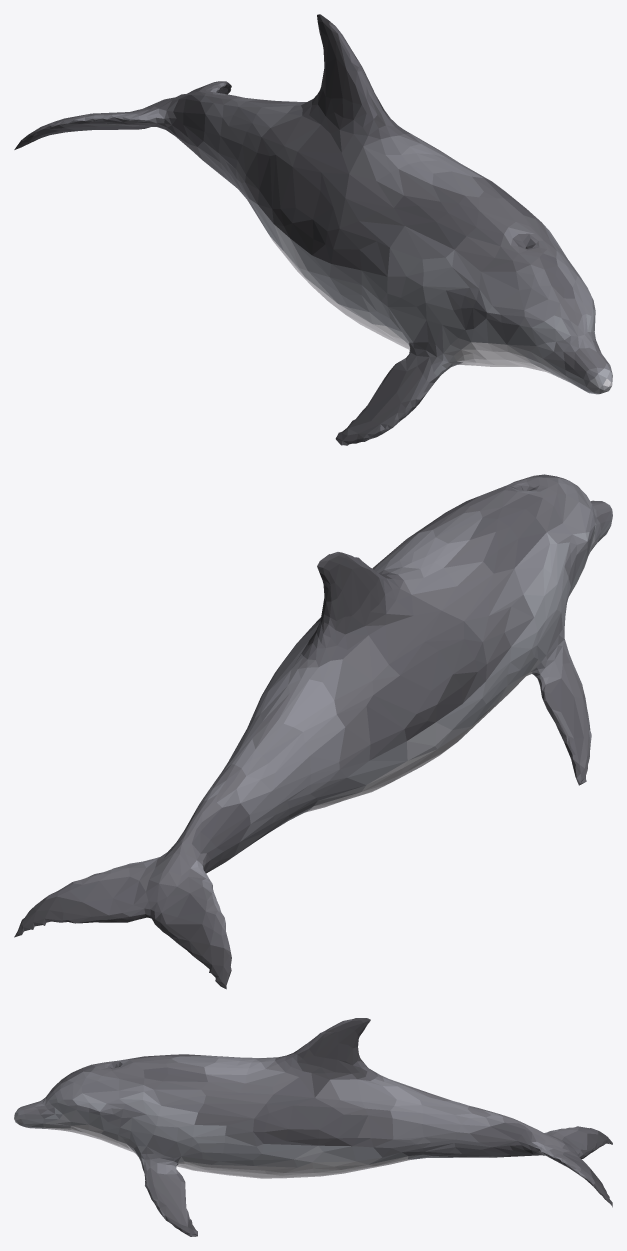
The model's file is dolphin2.glb.
3 renders of one model, top to bottom at view 1: azimuth 30°, elevation 25°; view 2: azimuth 150°, elevation 25°; view 3: azimuth 270°, elevation 25°, orthographic. The views are drawn at different scales.
Parts seen in each view (by area): view 1: low-poly-dolphin; view 2: low-poly-dolphin; view 3: low-poly-dolphin.
Boxes of the visible parts, box(x1,y1,x2,y2) form: low-poly-dolphin: box(14, 14, 612, 445); low-poly-dolphin: box(14, 474, 612, 989); low-poly-dolphin: box(14, 1018, 612, 1236).
Bounding box in the file's own units: 0.8136 × 0.9391 × 2.8.
Materials: 1 (1 with a texture image).
